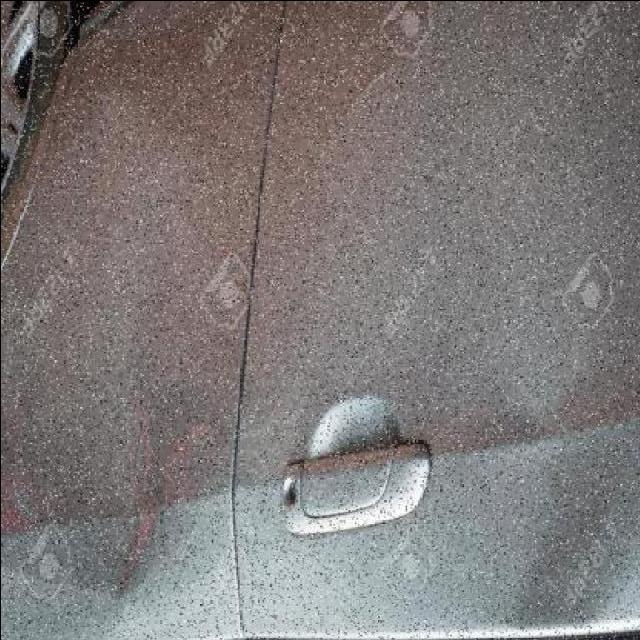doorouter-dent: (237, 2, 634, 640), (2, 1, 236, 635)
